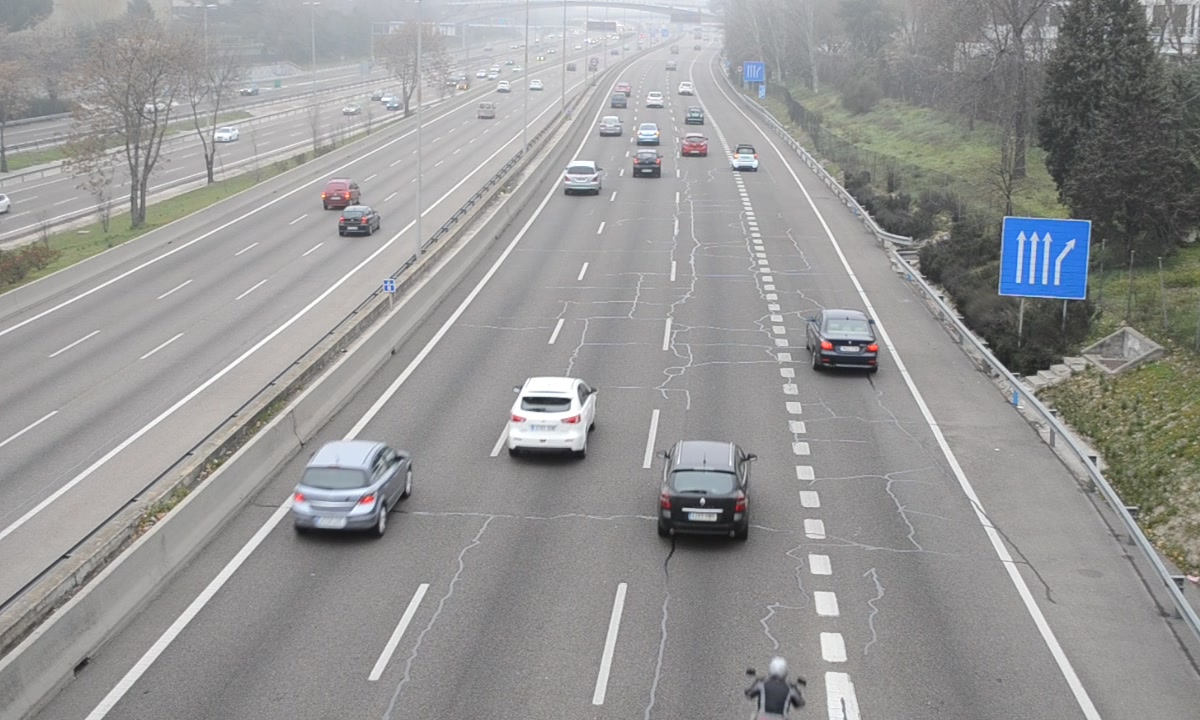car: (291, 443, 410, 537), (656, 440, 748, 542), (508, 377, 594, 459), (806, 308, 883, 377), (563, 161, 603, 197), (730, 142, 759, 172), (633, 148, 662, 178), (681, 133, 709, 158), (636, 122, 661, 147), (598, 115, 624, 139)
motorcycle: (738, 655, 809, 718)
